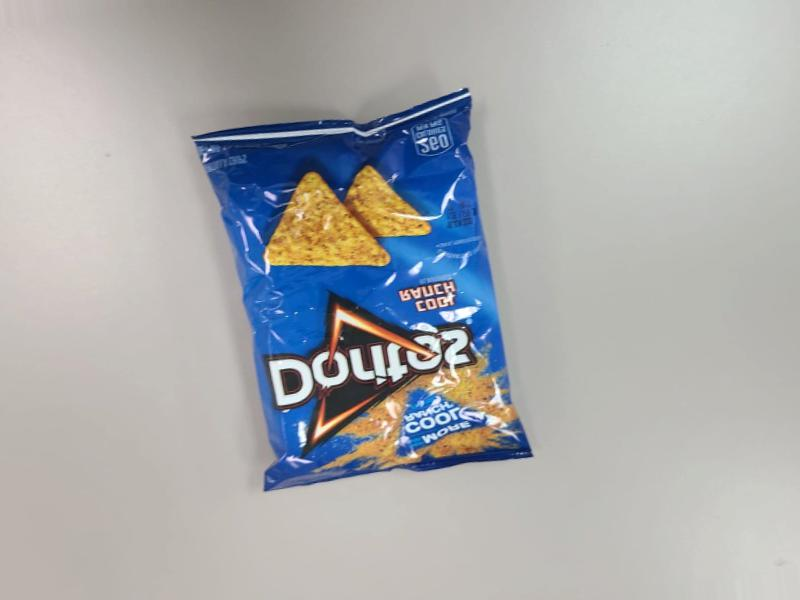doritos: (202, 67, 547, 504)
